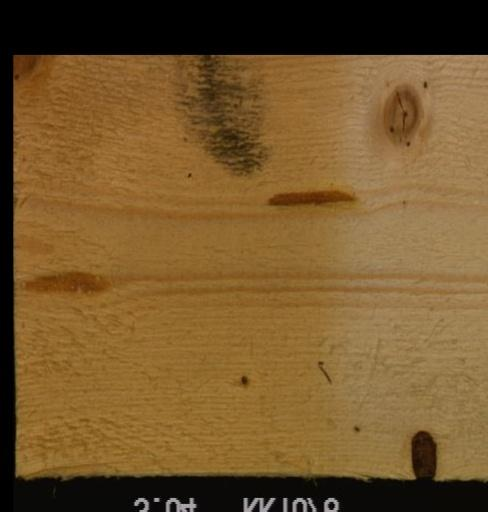edge_knot: (13, 53, 45, 79)
small_knot: (239, 373, 247, 385)
sound_knot: (380, 81, 423, 149)
